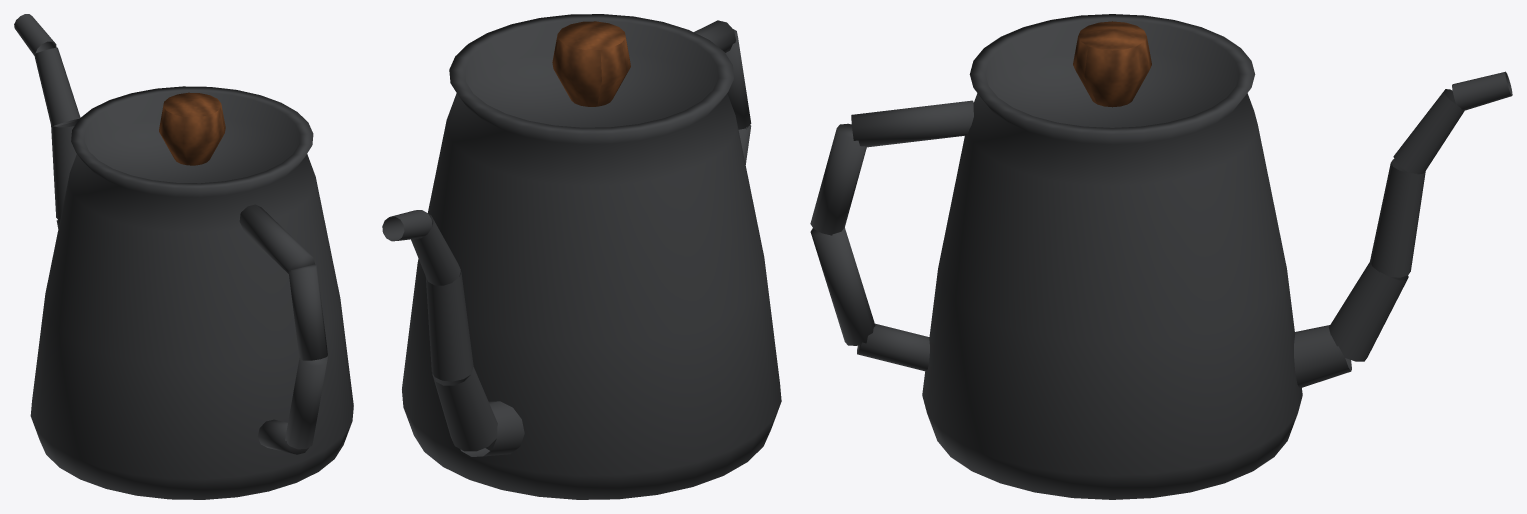
Rendered from kettle_gooseneck.glb.
The picture shows the model from 3 angles, left to right: view 1: azimuth 30°, elevation 25°; view 2: azimuth 150°, elevation 25°; view 3: azimuth 270°, elevation 25°; orthographic projection. The views are drawn at different scales.
Visible parts, largest first — view 1: KettleBody, KettleWoodKnob; view 2: KettleBody, KettleWoodKnob; view 3: KettleBody, KettleWoodKnob.
Part boxes in pixels (bbox=[...]): KettleBody: bbox=[14, 14, 353, 499]; KettleWoodKnob: bbox=[159, 92, 225, 165]; KettleBody: bbox=[382, 14, 781, 499]; KettleWoodKnob: bbox=[552, 21, 630, 106]; KettleBody: bbox=[810, 14, 1512, 499]; KettleWoodKnob: bbox=[1073, 21, 1151, 107].
Bounding box in the file's own units: 0.144 × 0.164 × 0.2657.
Materials: 2 (1 with a texture image).
